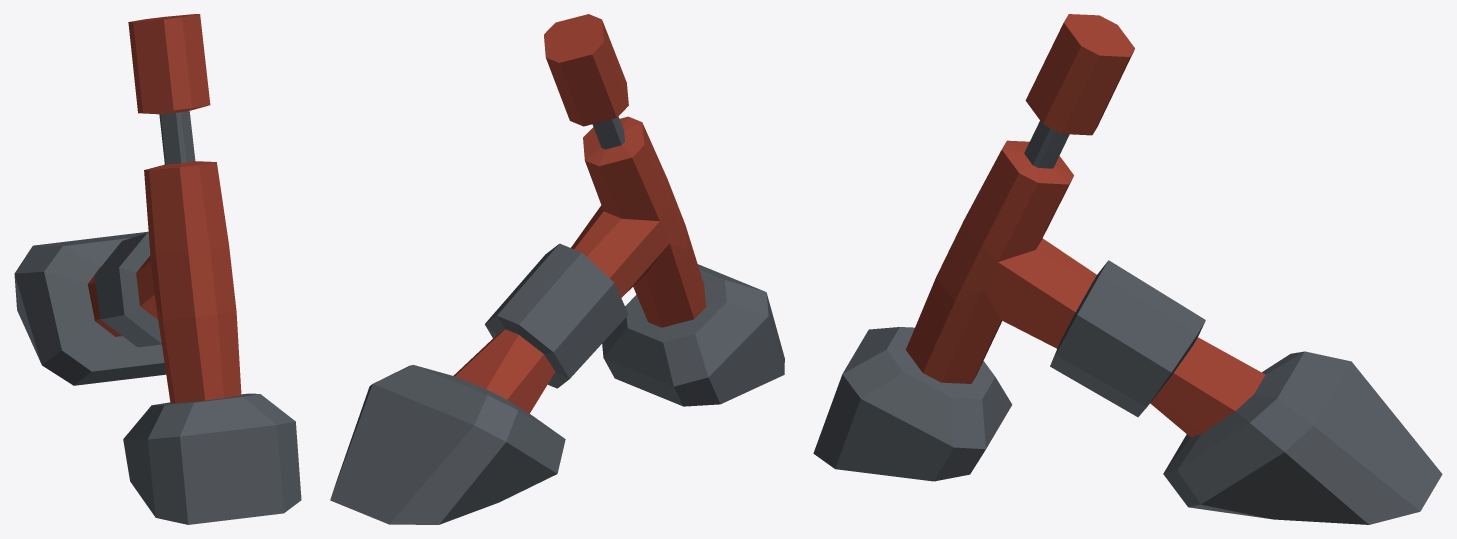
The model's file is Dropship_04_Lander_Rear_Left_Red.fbx.
The picture shows the model from 3 angles, left to right: view 1: azimuth 30°, elevation 25°; view 2: azimuth 150°, elevation 25°; view 3: azimuth 270°, elevation 25°; orthographic projection. The views are drawn at different scales.
Parts seen in each view (by area): view 1: Dropship_04_Lander_Rear_Left_Red; view 2: Dropship_04_Lander_Rear_Left_Red; view 3: Dropship_04_Lander_Rear_Left_Red.
Part boxes in pixels (box(x1,y1,x2,y2)): Dropship_04_Lander_Rear_Left_Red: box(14, 14, 301, 524); Dropship_04_Lander_Rear_Left_Red: box(330, 14, 784, 524); Dropship_04_Lander_Rear_Left_Red: box(813, 14, 1442, 524).
Bounding box in the file's own units: 136 × 227 × 289.
Materials: 1 (1 with a texture image).
